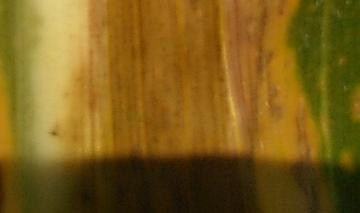tarspot: (48, 128, 59, 140)
